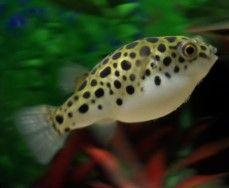Green Spotted Puffer: (17, 34, 218, 166)
